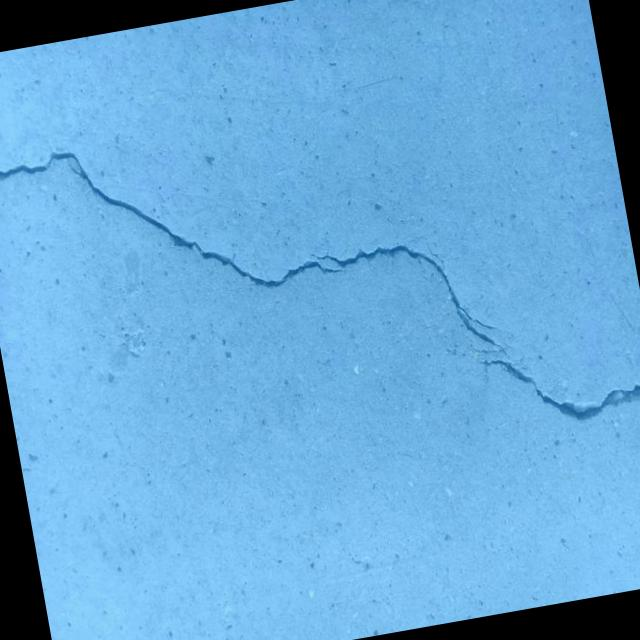crack: (0, 77, 517, 442), (477, 329, 640, 436)
